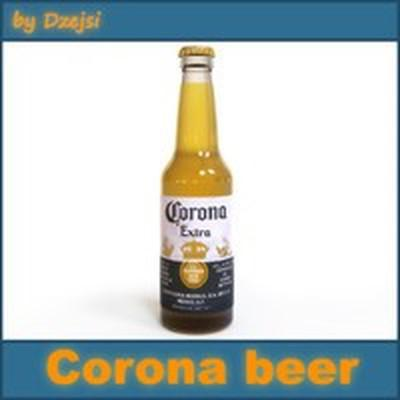beer: (157, 46, 236, 335)
